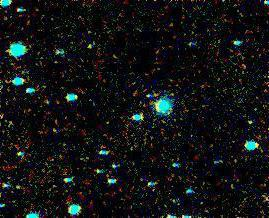star: (132, 82, 162, 112)
